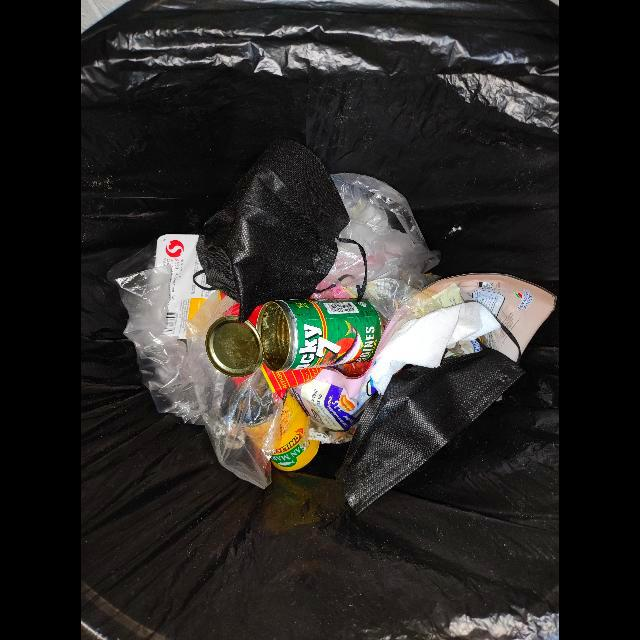aluminum: (206, 299, 385, 378)
food_wrapper: (291, 273, 558, 432), (155, 234, 215, 340)
paper: (370, 302, 502, 395)
plastic_bag: (116, 268, 272, 490), (316, 172, 442, 326)
